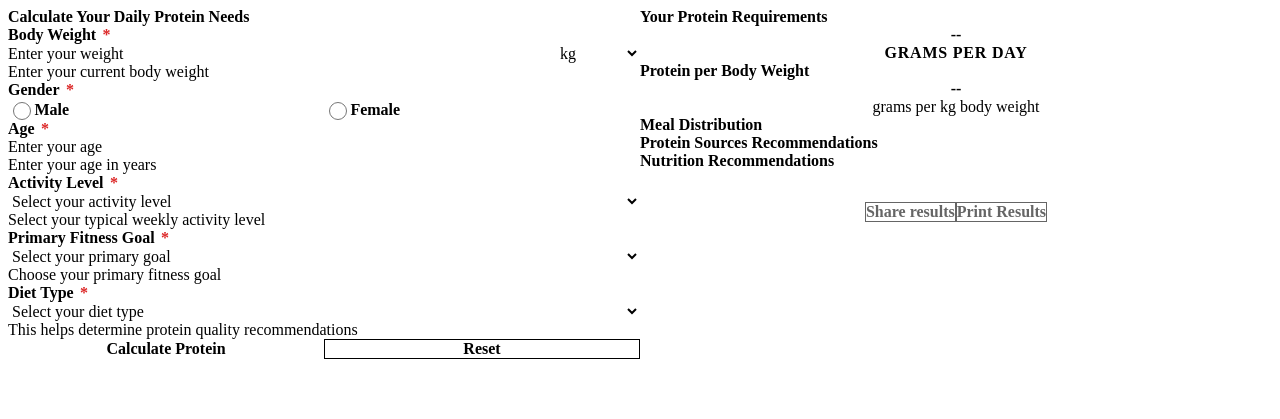
Test case: ProteinCalculator › computes protein targets and meal distribution end-to-end
The image size is (1280, 419).
Type "80" into the number field named "Body Weight".
click(282, 54); type("80")  # box left=8, top=44, right=556, bottom=63
Click the radio button labelled "Male".
click(22, 111)  # box left=13, top=102, right=31, bottom=120
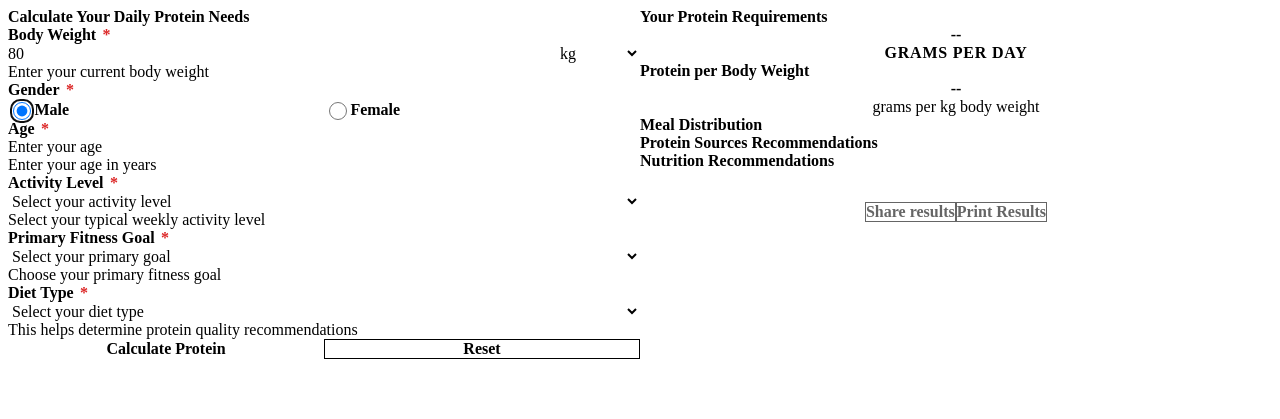
Type "30" into the number field labelled "Age".
click(324, 147); type("30")  # box left=8, top=138, right=640, bottom=156
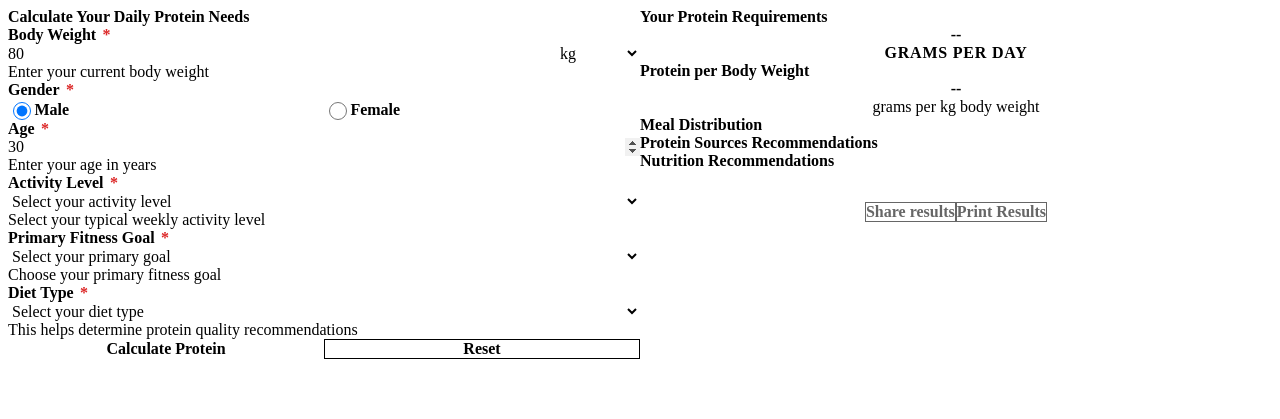
Select "Moderate (exercise 3-5 days/week)" in the dropdown labelled "Activity Level" at (324, 202), box left=8, top=192, right=640, bottom=211
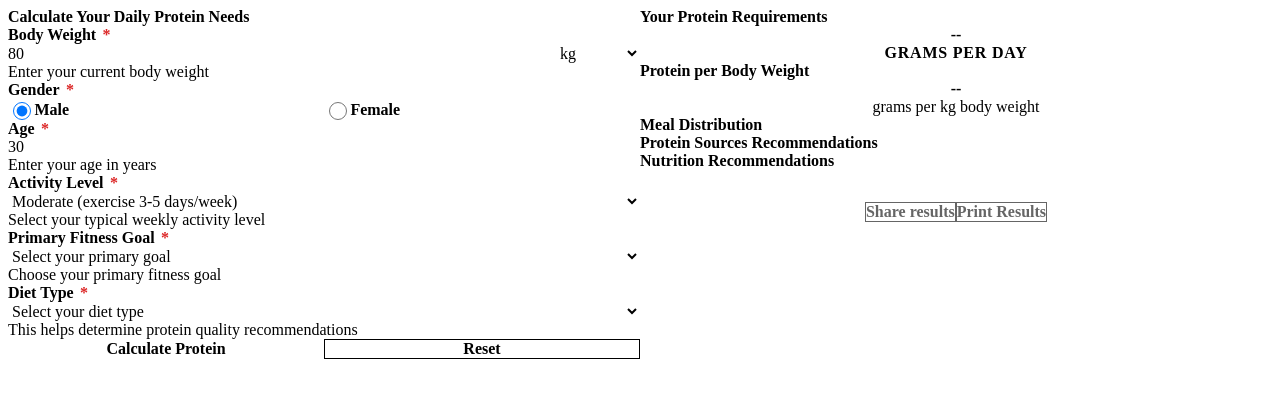
Select "Build Muscle (Hypertrophy)" in the dropdown labelled "Primary Fitness Goal" at (324, 257), box left=8, top=247, right=640, bottom=266
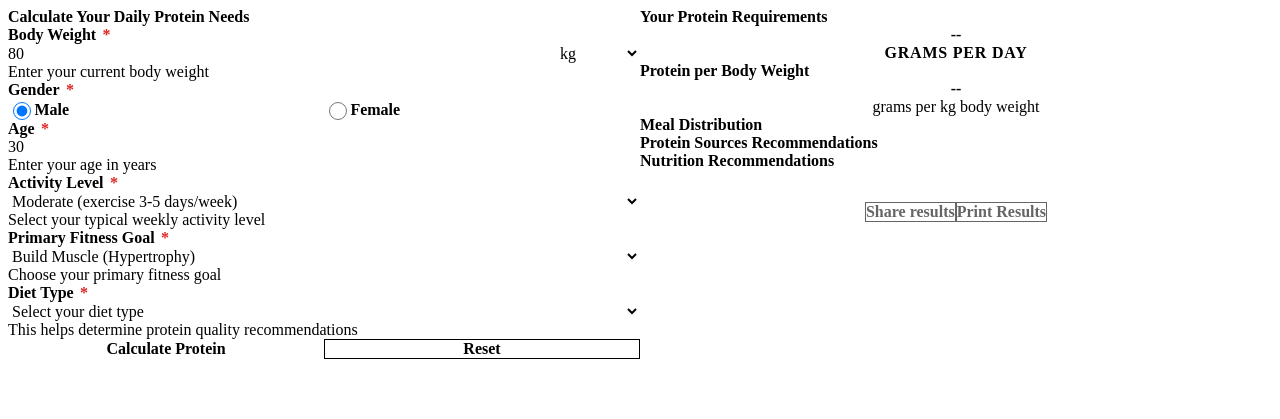
Select "Omnivore (mixed diet)" in the dropdown labelled "Diet Type" at (324, 312), box left=8, top=302, right=640, bottom=321
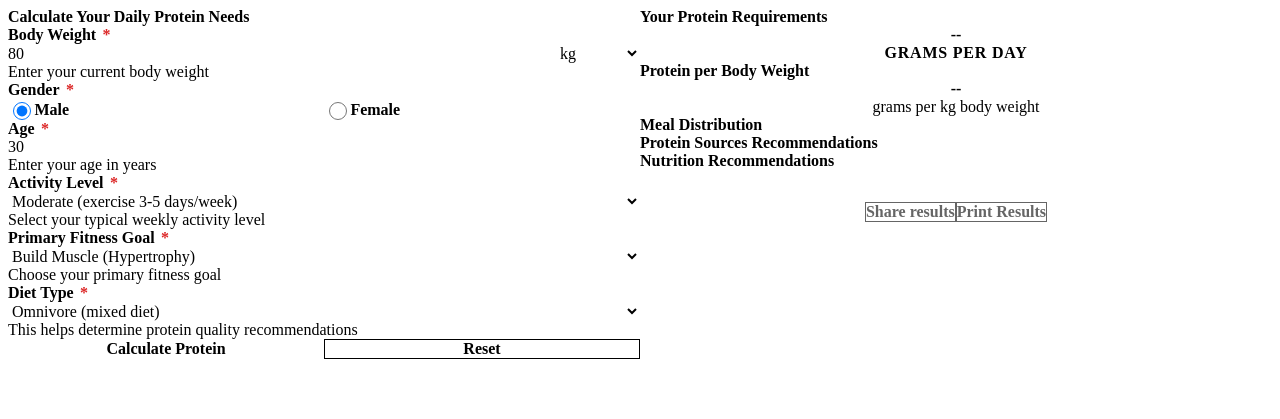
Click the button "Calculate Protein".
click(166, 349)  # box left=8, top=339, right=324, bottom=359
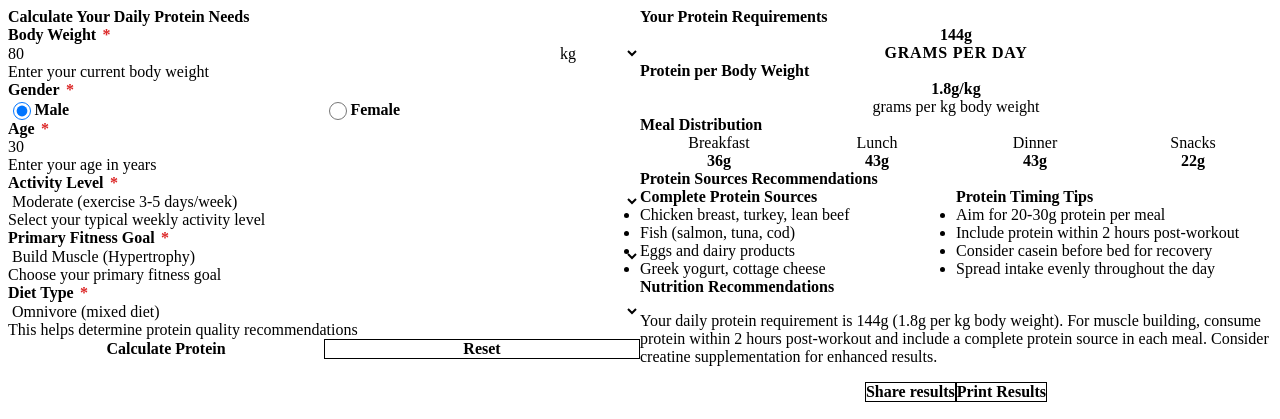
expect the element "Your Protein Requirements" shows "144g": met, box left=940, top=26, right=972, bottom=43
expect the element "Your Protein Requirements" shows "1.8g/kg": met, box left=931, top=80, right=981, bottom=97
expect the element "Your Protein Requirements" shows "Breakfast": met, box left=688, top=134, right=750, bottom=151
